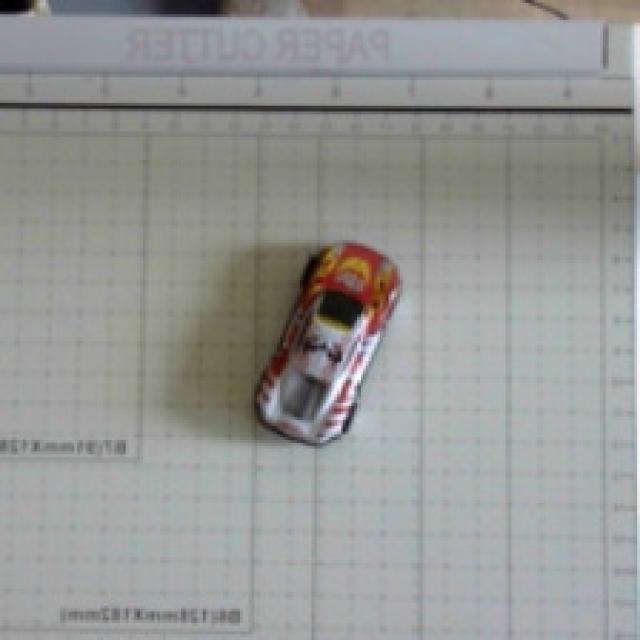Red Car: (212, 210, 414, 458)
